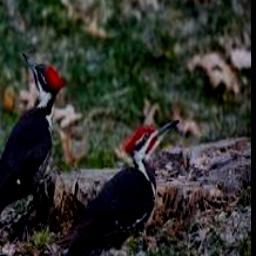Woodpecker: (54, 119, 178, 256), (0, 54, 66, 252)
